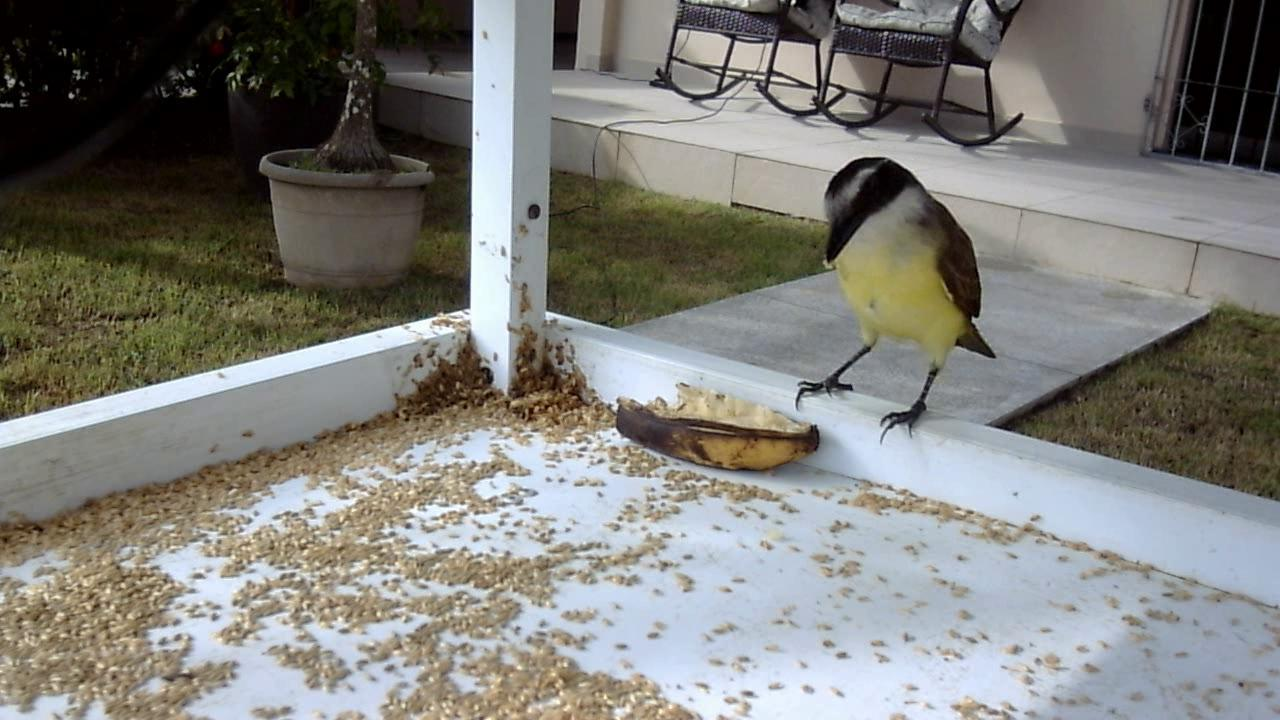bem_te_vi: (783, 149, 1004, 458)
